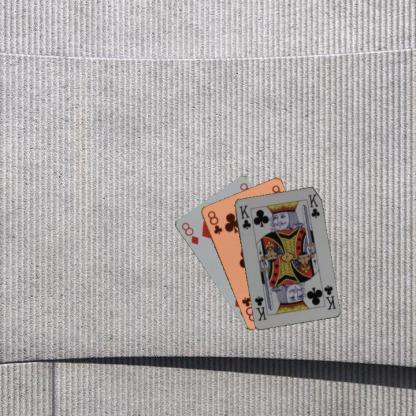8c: (204, 208, 223, 236)
8d: (178, 219, 200, 247)
Kc: (321, 282, 337, 311), (237, 202, 252, 231)
